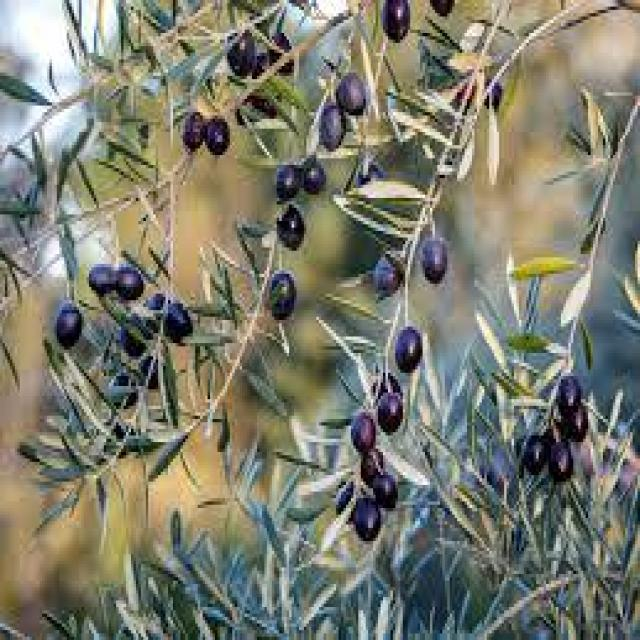Healthy: (274, 155, 324, 201), (183, 109, 230, 155), (421, 234, 450, 285), (53, 302, 84, 349), (267, 271, 294, 320), (393, 323, 420, 369), (383, 1, 410, 43)
